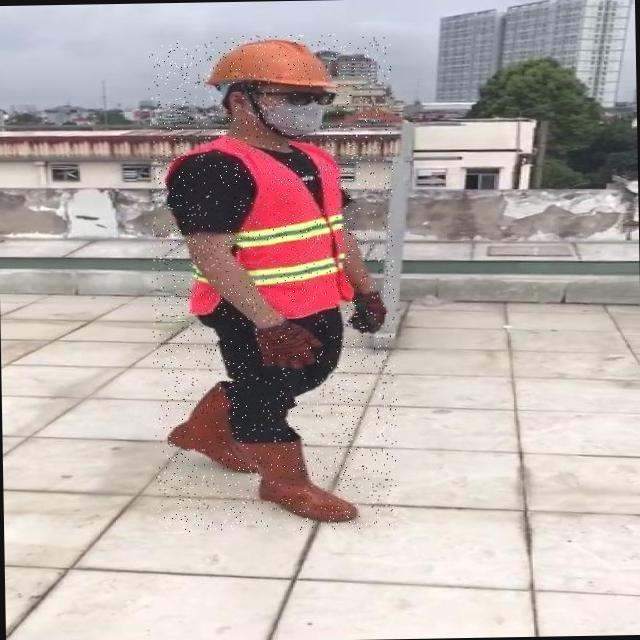boots: (242, 439, 358, 524), (164, 380, 243, 468)
gloves: (258, 314, 326, 376), (349, 289, 388, 331)
helmet: (200, 34, 342, 92)
vest: (188, 140, 348, 318)
